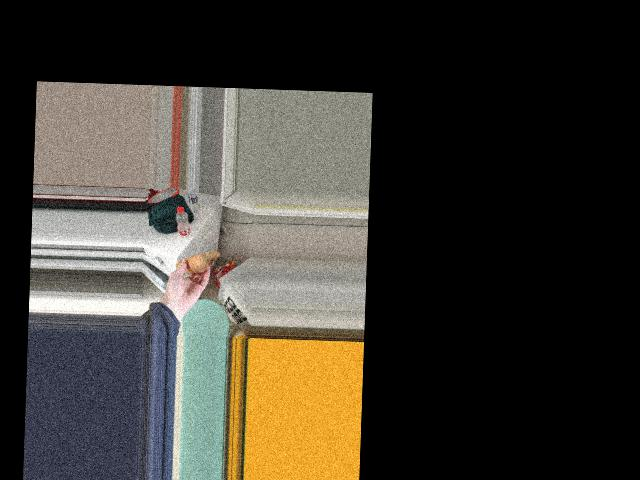sweet_potato: (180, 253, 208, 273)
